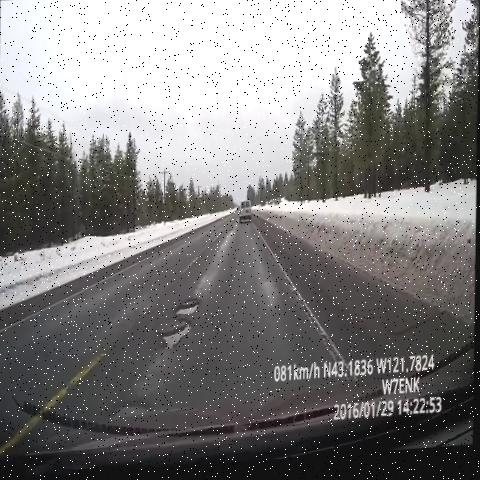pothole: (110, 386, 151, 431), (159, 326, 200, 362), (173, 297, 203, 327), (226, 227, 239, 240)
